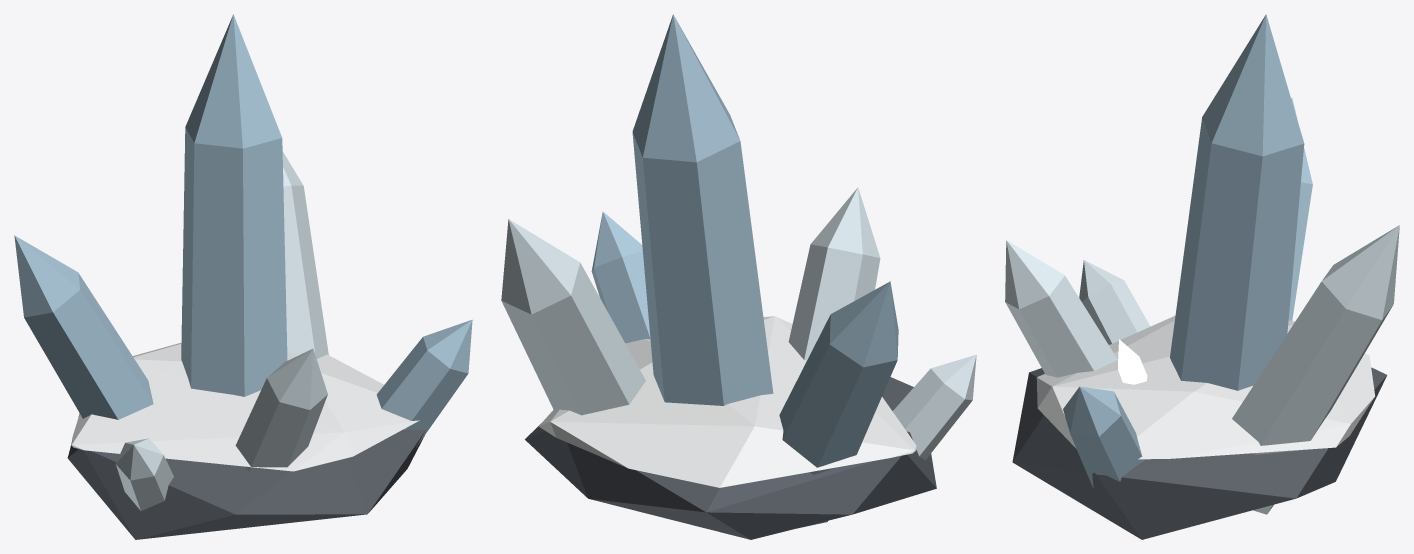
Rendered from Ice_Crystal.fbx.
3 renders of one model, left to right at view 1: azimuth 30°, elevation 25°; view 2: azimuth 150°, elevation 25°; view 3: azimuth 270°, elevation 25°, orthographic. The views are drawn at different scales.
Visible parts, largest first — view 1: Crystals, Base, Snow, Crystals2; view 2: Crystals, Crystals2, Snow, Base; view 3: Crystals, Crystals2, Base, Snow, Glow.
Part boxes in pixels (x1,y1,x2,y2): Crystals: (14, 14, 472, 447); Base: (67, 414, 425, 539); Snow: (71, 342, 419, 471); Crystals2: (116, 151, 328, 510); Crystals: (591, 14, 898, 528); Crystals2: (501, 187, 976, 459); Snow: (538, 316, 916, 487); Base: (525, 377, 936, 539); Crystals: (1063, 14, 1312, 488); Crystals2: (1005, 225, 1399, 514); Base: (1012, 367, 1387, 539); Snow: (1036, 315, 1374, 459); Glow: (1118, 339, 1147, 384).
Size of the model in its own units: 2.97 by 3.48 by 2.67.
